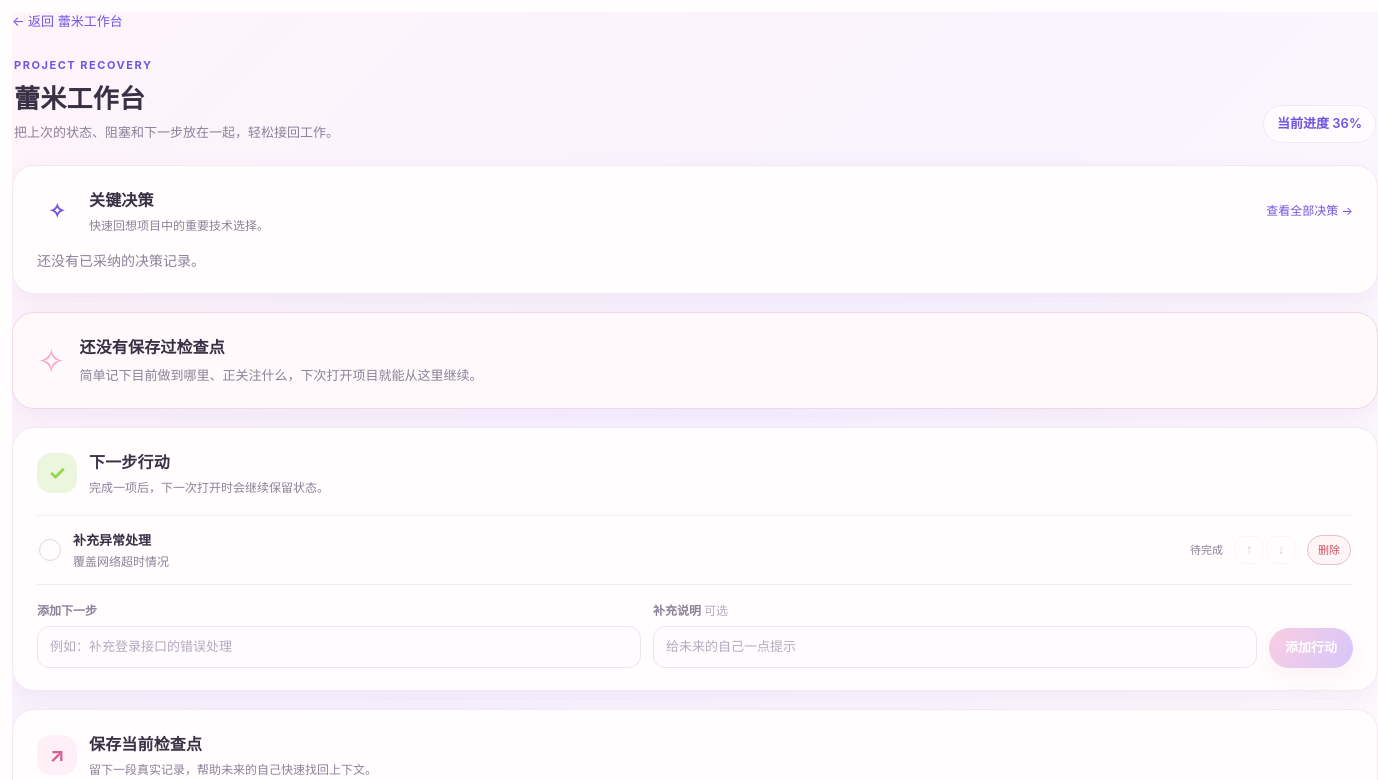
Test: RecoveryView › persists action completion and displays the completed state
The width and height of the screenshot is (1378, 780).
Click the button named "完成：补充异常处理" at (50, 550), box top-left (39, 539), bottom-right (61, 561)
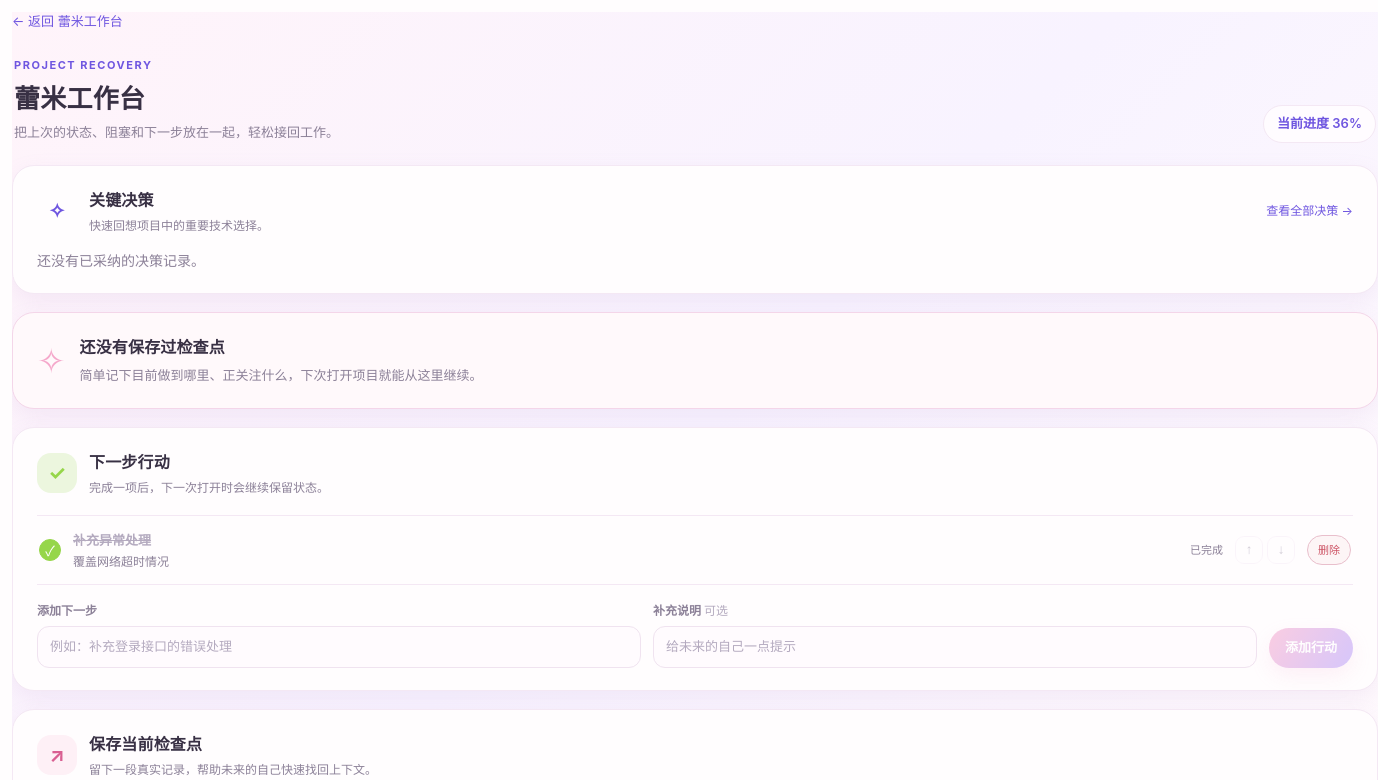
Now the text "已完成" is shown, box top-left (1190, 542), bottom-right (1223, 558)
